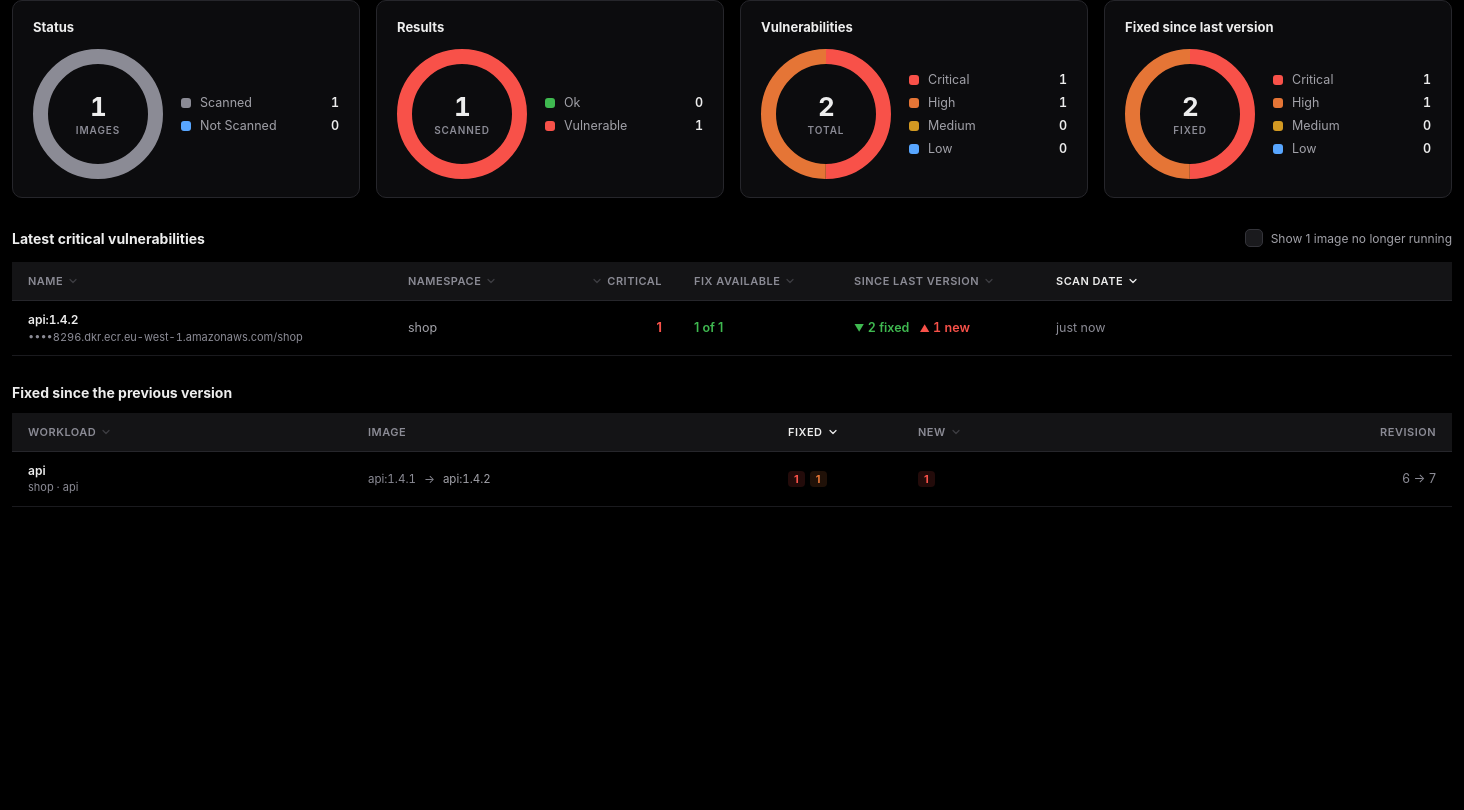
Test: images no longer running › are hidden by default on the overview, behind a toggle that shows them as "Not running"
Click the checkbox labelled "Show 1 image no longer running" at [1254, 238], box x1=1245 y1=229 x2=1263 y2=247
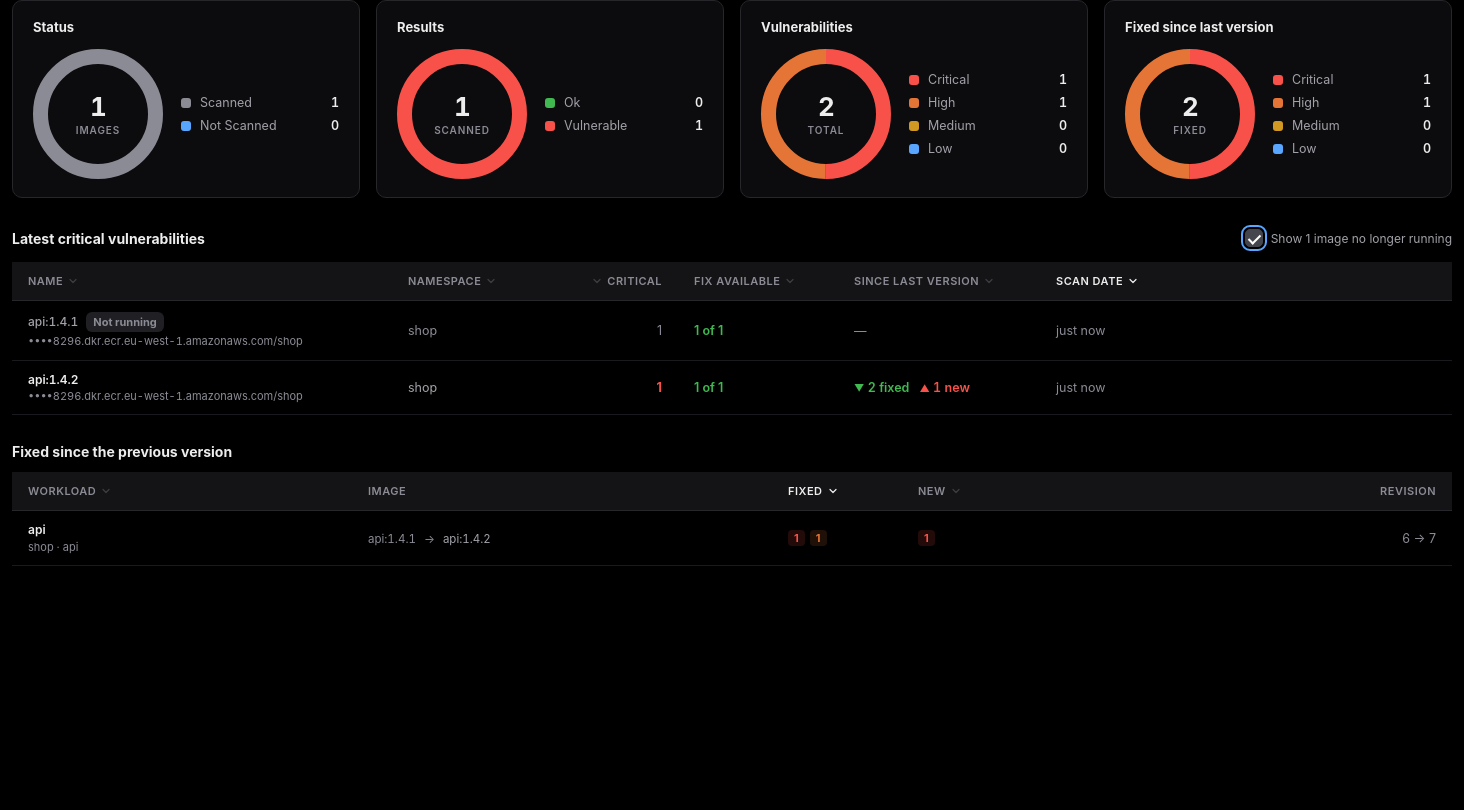
Expected: the row "api:1.4.1" shows "Not running", x1=93 y1=315 x2=157 y2=329
